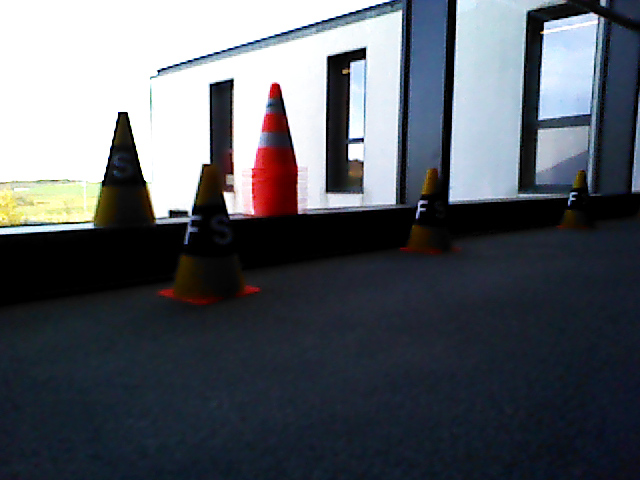orangeconesmall: (255, 84, 297, 168)
